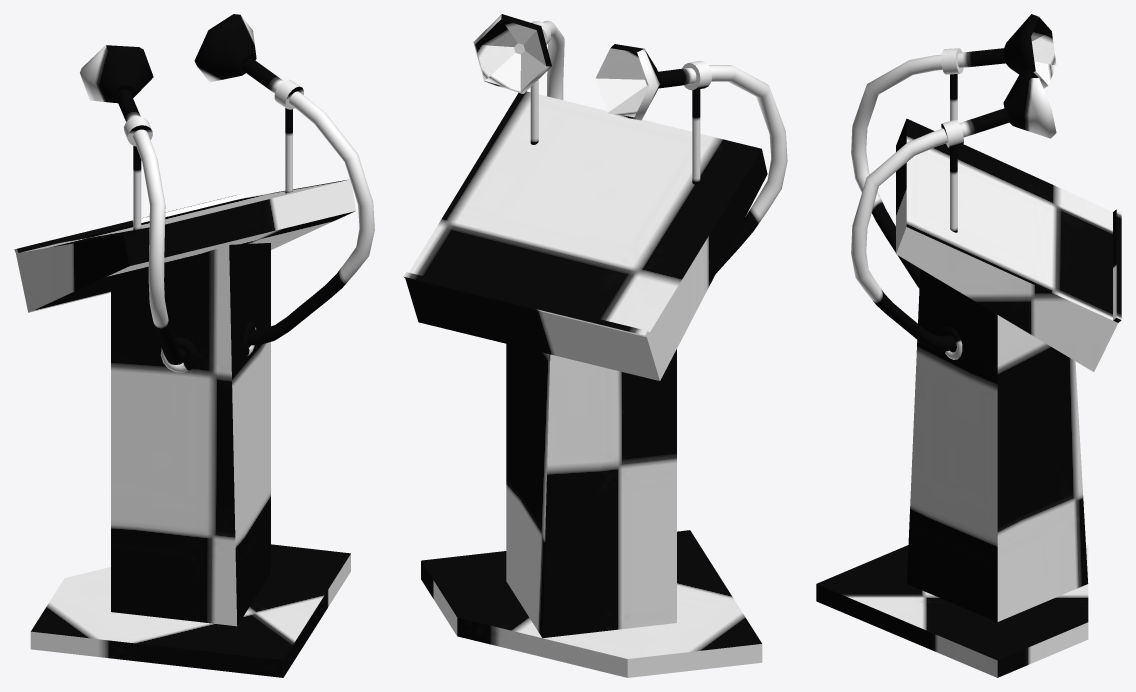
File: pupitre.FBX
3 renders of one model, left to right at view 1: azimuth 30°, elevation 25°; view 2: azimuth 150°, elevation 25°; view 3: azimuth 270°, elevation 25°, orthographic. The views are drawn at different scales.
Visible parts, largest first — view 1: pupitre; view 2: pupitre; view 3: pupitre.
Boxes of the visible parts, x1,y1,x2,y2 form: pupitre: (14, 14, 374, 677); pupitre: (403, 14, 787, 677); pupitre: (816, 14, 1121, 677).
Bounding box in the file's own units: 28.28 × 47.79 × 23.84.
Materials: 1 (1 with a texture image).
